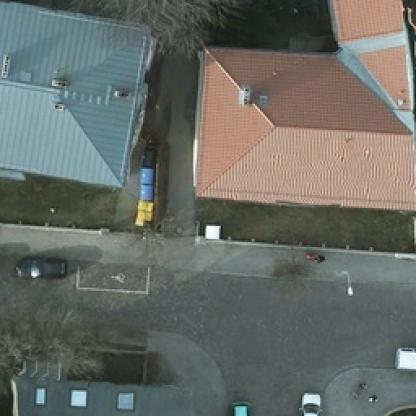car: (13, 254, 68, 282)
